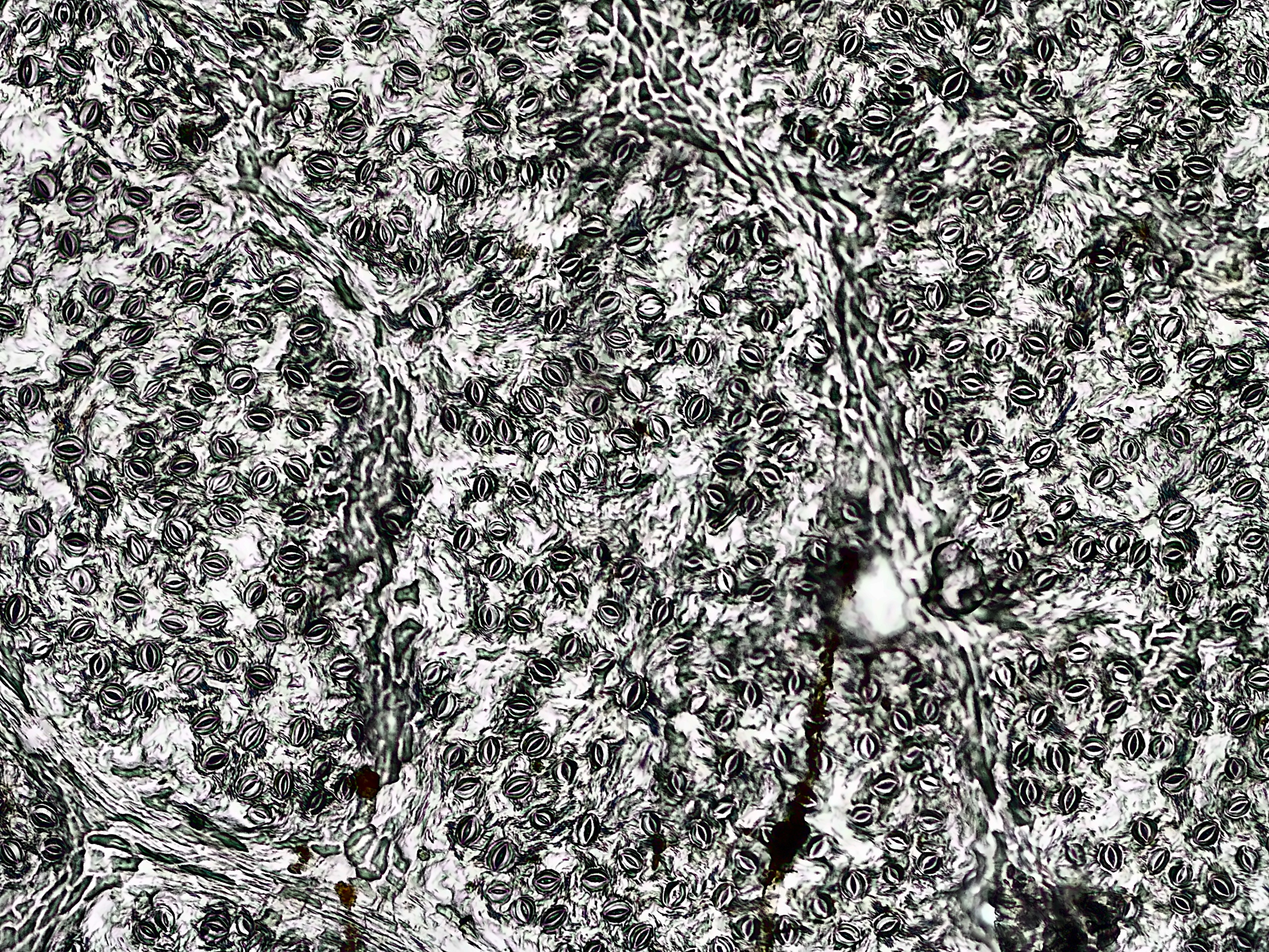stomata: (621, 674, 649, 714), (354, 15, 390, 42), (191, 337, 227, 364), (487, 838, 514, 874), (681, 394, 711, 426), (1160, 502, 1195, 529), (1026, 439, 1058, 468), (4, 593, 31, 627), (17, 8, 47, 38), (272, 274, 301, 304), (389, 122, 417, 153), (238, 720, 266, 751), (413, 298, 441, 329), (128, 95, 157, 124), (1047, 119, 1075, 149), (937, 68, 965, 98), (1186, 344, 1216, 372), (164, 517, 191, 548), (145, 44, 171, 76), (527, 28, 563, 51), (53, 435, 86, 460), (180, 273, 208, 302), (66, 187, 97, 213), (123, 320, 154, 346), (227, 368, 258, 394), (621, 372, 647, 403), (292, 318, 324, 343), (333, 392, 365, 417), (288, 714, 312, 747), (66, 617, 95, 644), (235, 773, 264, 800), (774, 434, 803, 461), (818, 78, 841, 112), (573, 53, 604, 78), (774, 915, 799, 946), (1087, 246, 1118, 271), (313, 36, 345, 60), (474, 107, 507, 130), (644, 416, 671, 444), (985, 495, 1013, 522), (89, 280, 115, 309), (71, 567, 97, 596), (433, 691, 459, 720), (137, 640, 162, 670), (336, 116, 367, 140), (244, 666, 275, 690), (528, 658, 559, 682), (478, 736, 502, 767), (256, 618, 288, 641), (601, 900, 633, 923), (844, 870, 867, 902), (804, 334, 831, 361), (1233, 476, 1260, 503), (518, 388, 544, 416), (86, 480, 115, 505), (0, 838, 25, 867), (253, 466, 278, 495), (906, 183, 935, 208), (30, 804, 60, 828), (610, 430, 641, 453), (664, 878, 687, 909), (1183, 156, 1214, 179), (172, 200, 204, 222), (158, 573, 190, 595), (196, 605, 228, 627), (451, 778, 483, 800), (926, 279, 948, 311), (442, 232, 468, 259), (757, 400, 783, 427), (284, 456, 311, 482), (686, 336, 710, 365), (125, 534, 149, 563), (62, 355, 95, 376), (504, 697, 537, 718), (306, 155, 336, 178), (653, 333, 676, 363), (613, 135, 635, 166), (1046, 743, 1068, 774), (528, 1, 562, 21), (0, 461, 26, 487), (1194, 819, 1220, 845), (1064, 325, 1089, 352), (889, 304, 914, 331), (7, 262, 35, 286), (61, 532, 93, 553), (189, 712, 221, 733), (126, 458, 154, 482), (1022, 330, 1050, 354), (942, 333, 970, 357), (78, 0, 101, 29), (35, 171, 58, 200), (134, 687, 157, 716), (245, 407, 274, 430), (456, 816, 479, 845), (987, 154, 1016, 177), (1099, 843, 1122, 872), (395, 61, 425, 83), (455, 168, 477, 198), (487, 155, 507, 188), (114, 589, 144, 611), (165, 456, 198, 476), (531, 870, 561, 892), (580, 869, 610, 891), (632, 922, 654, 952), (1204, 448, 1226, 478), (502, 775, 533, 796), (578, 815, 599, 846), (1188, 706, 1209, 737), (1124, 729, 1145, 760), (59, 50, 84, 76), (211, 435, 237, 460), (476, 604, 502, 629), (1104, 287, 1130, 312), (1051, 492, 1077, 517), (108, 359, 135, 383), (201, 746, 228, 770), (327, 359, 354, 383), (716, 449, 743, 473), (884, 1, 908, 28), (497, 59, 525, 82), (582, 166, 610, 189), (160, 611, 188, 634), (892, 129, 915, 157), (964, 293, 992, 316), (1025, 256, 1048, 284), (518, 156, 538, 188), (171, 410, 203, 430), (554, 124, 583, 146), (636, 296, 665, 318), (89, 651, 111, 680), (540, 363, 569, 385), (742, 489, 764, 518), (1010, 382, 1039, 404), (1159, 769, 1188, 791), (441, 33, 471, 54), (206, 296, 236, 317), (335, 772, 356, 802), (200, 554, 230, 575), (701, 291, 725, 317), (289, 412, 315, 436), (243, 582, 267, 608), (920, 18, 944, 44), (1229, 181, 1255, 205), (1227, 350, 1253, 374), (595, 290, 622, 313), (739, 345, 766, 368), (440, 406, 463, 433), (1147, 253, 1170, 280), (1020, 776, 1040, 807), (620, 232, 648, 254), (1135, 361, 1163, 383), (1216, 561, 1238, 589), (80, 98, 101, 127), (150, 250, 171, 279), (330, 87, 359, 108), (344, 719, 365, 748), (527, 565, 548, 594), (723, 750, 744, 779), (1080, 737, 1109, 758), (1118, 123, 1150, 142), (190, 85, 214, 110), (107, 214, 137, 234), (475, 237, 499, 262), (29, 636, 54, 660), (215, 647, 239, 672), (1118, 41, 1143, 65), (1161, 57, 1186, 81), (1105, 530, 1129, 555), (1227, 604, 1251, 629), (456, 66, 479, 92), (176, 661, 202, 684), (584, 390, 607, 416), (453, 526, 476, 552), (1074, 536, 1097, 562), (1229, 708, 1252, 734), (1146, 849, 1169, 875), (423, 166, 445, 193), (100, 684, 127, 706), (523, 734, 550, 756), (961, 191, 988, 213), (999, 200, 1026, 222), (986, 337, 1008, 364), (1190, 392, 1217, 414), (1152, 734, 1174, 761), (1062, 782, 1080, 815), (54, 0, 73, 31), (351, 213, 370, 244), (110, 33, 131, 61), (546, 159, 567, 187), (243, 313, 271, 334), (214, 504, 242, 525), (863, 108, 891, 129), (958, 247, 986, 268), (925, 387, 946, 415), (958, 372, 986, 393), (1170, 579, 1191, 607), (1022, 648, 1043, 676), (19, 56, 39, 85), (124, 187, 153, 207), (547, 305, 567, 334), (652, 597, 672, 626), (1247, 56, 1267, 85), (1129, 539, 1149, 568), (1223, 797, 1252, 817), (494, 292, 518, 316), (209, 471, 233, 495), (908, 342, 926, 374), (1242, 384, 1266, 408), (1091, 466, 1116, 489), (421, 661, 443, 687), (1181, 192, 1207, 214), (1078, 421, 1104, 443), (280, 0, 310, 19), (0, 304, 21, 331), (304, 623, 331, 644), (495, 419, 516, 446), (514, 897, 535, 924), (1031, 79, 1058, 100), (1238, 846, 1259, 873), (201, 917, 229, 937), (282, 505, 310, 525), (278, 548, 306, 568), (566, 421, 590, 444), (485, 555, 508, 579), (887, 55, 911, 78), (1168, 424, 1191, 448), (1031, 702, 1054, 726), (188, 383, 217, 402), (553, 79, 575, 104), (19, 383, 41, 408), (442, 745, 464, 770), (541, 907, 566, 929), (743, 547, 768, 569), (290, 99, 311, 125), (606, 327, 632, 348), (621, 847, 642, 873), (669, 769, 690, 795), (809, 833, 830, 859), (871, 772, 897, 793), (1118, 895, 1139, 921), (191, 124, 209, 154), (579, 215, 606, 235), (156, 905, 176, 932), (473, 476, 493, 503), (464, 379, 484, 406), (507, 611, 537, 629), (840, 30, 860, 57), (1161, 313, 1181, 340), (968, 417, 986, 447), (60, 229, 79, 257), (63, 298, 82, 326), (692, 821, 711, 849), (1063, 681, 1091, 700), (243, 15, 266, 38), (1211, 876, 1234, 899), (25, 512, 47, 536), (41, 839, 65, 861), (559, 635, 581, 659), (797, 788, 821, 810), (760, 463, 784, 485), (782, 36, 804, 60), (1151, 689, 1175, 711), (1132, 819, 1154, 843), (708, 484, 729, 509), (591, 740, 609, 769), (1001, 63, 1021, 89), (1202, 100, 1228, 120), (979, 470, 1005, 490), (717, 226, 736, 253), (330, 659, 357, 678), (716, 568, 735, 595), (1100, 0, 1127, 19), (275, 769, 292, 799), (696, 254, 718, 277), (574, 350, 597, 372), (1034, 569, 1057, 591), (311, 755, 332, 779), (618, 467, 642, 488), (246, 806, 274, 824), (972, 30, 993, 54), (519, 90, 539, 115), (141, 380, 166, 400), (284, 365, 309, 385), (1144, 91, 1169, 111), (1175, 118, 1201, 137), (1101, 697, 1127, 716), (742, 677, 759, 706), (483, 31, 505, 53), (581, 455, 603, 477), (388, 211, 409, 234), (121, 295, 142, 318), (669, 633, 692, 654), (1242, 527, 1265, 548), (919, 772, 942, 793), (16, 218, 40, 238), (750, 580, 774, 600), (1120, 438, 1140, 462), (843, 498, 863, 522), (1171, 860, 1191, 884), (1203, 0, 1237, 14), (469, 421, 488, 446), (555, 760, 574, 785), (642, 812, 661, 837), (739, 915, 758, 940), (875, 915, 900, 934), (739, 2, 758, 27), (943, 3, 961, 29), (916, 810, 942, 828), (577, 268, 599, 289), (729, 408, 750, 430), (511, 481, 533, 502), (838, 924, 859, 946), (851, 803, 872, 825), (36, 553, 56, 576), (1129, 336, 1152, 356), (464, 2, 491, 19), (148, 143, 175, 160), (153, 492, 180, 509), (889, 216, 916, 233), (996, 659, 1013, 686), (812, 894, 831, 918), (715, 708, 734, 732), (798, 0, 822, 19), (1054, 277, 1073, 301), (1068, 643, 1092, 662), (715, 884, 733, 909), (860, 733, 878, 758), (358, 157, 374, 185), (548, 548, 576, 564), (1112, 661, 1133, 682), (1170, 893, 1191, 914), (90, 161, 112, 181), (663, 164, 683, 186), (559, 253, 581, 273), (533, 432, 553, 454), (736, 853, 758, 873), (706, 0, 728, 20), (1065, 844, 1085, 866), (135, 922, 158, 941), (1174, 659, 1197, 678), (859, 679, 878, 702), (589, 652, 613, 670), (893, 707, 911, 731), (751, 220, 768, 245), (760, 306, 777, 331), (561, 470, 581, 491), (382, 515, 403, 535), (616, 560, 636, 581), (532, 808, 553, 828), (773, 741, 787, 771), (1155, 170, 1176, 190), (1248, 669, 1269, 689), (1225, 757, 1245, 778), (941, 222, 963, 241), (1037, 524, 1059, 543), (1200, 44, 1223, 62), (921, 851, 939, 874), (690, 691, 707, 715), (754, 28, 771, 52), (1013, 742, 1030, 766), (790, 120, 805, 147), (1038, 35, 1053, 62), (598, 605, 623, 621), (236, 914, 255, 935), (317, 445, 336, 466), (713, 800, 734, 819), (1045, 363, 1066, 382), (1163, 543, 1184, 562), (894, 84, 916, 102), (920, 148, 938, 170), (789, 670, 804, 696), (1006, 550, 1025, 570), (714, 658, 732, 679), (794, 578, 821, 592), (407, 249, 422, 274), (282, 589, 304, 606), (811, 540, 827, 563), (926, 430, 942, 453), (1234, 933, 1257, 949), (378, 220, 393, 244), (137, 429, 157, 447), (399, 480, 414, 504), (485, 883, 509, 898), (712, 934, 732, 952), (921, 698, 937, 720), (825, 134, 839, 159), (684, 551, 702, 570), (306, 793, 323, 813), (488, 522, 509, 538), (1183, 940, 1211, 952), (326, 0, 353, 12), (559, 578, 578, 595), (886, 865, 903, 884), (590, 543, 606, 563), (732, 377, 747, 398), (849, 143, 863, 165), (886, 833, 908, 847), (481, 278, 498, 296), (763, 255, 780, 273), (903, 746, 921, 763), (983, 0, 1000, 17), (1070, 16, 1084, 36), (587, 939, 603, 952)
